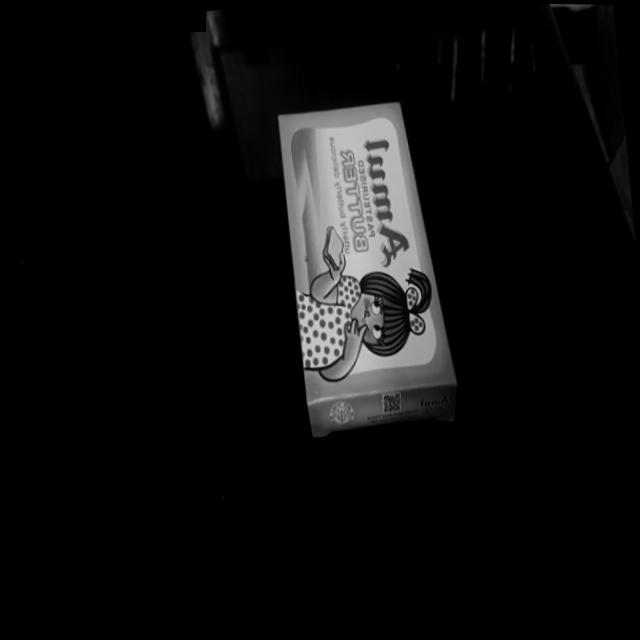butter: (262, 88, 465, 458)
